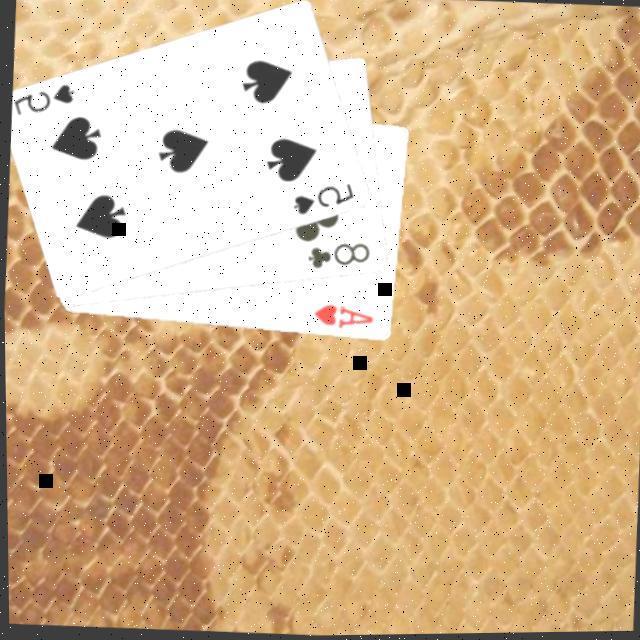5S: (288, 180, 358, 224), (11, 80, 78, 124)
8C: (302, 239, 372, 278)
AH: (309, 303, 376, 337)
